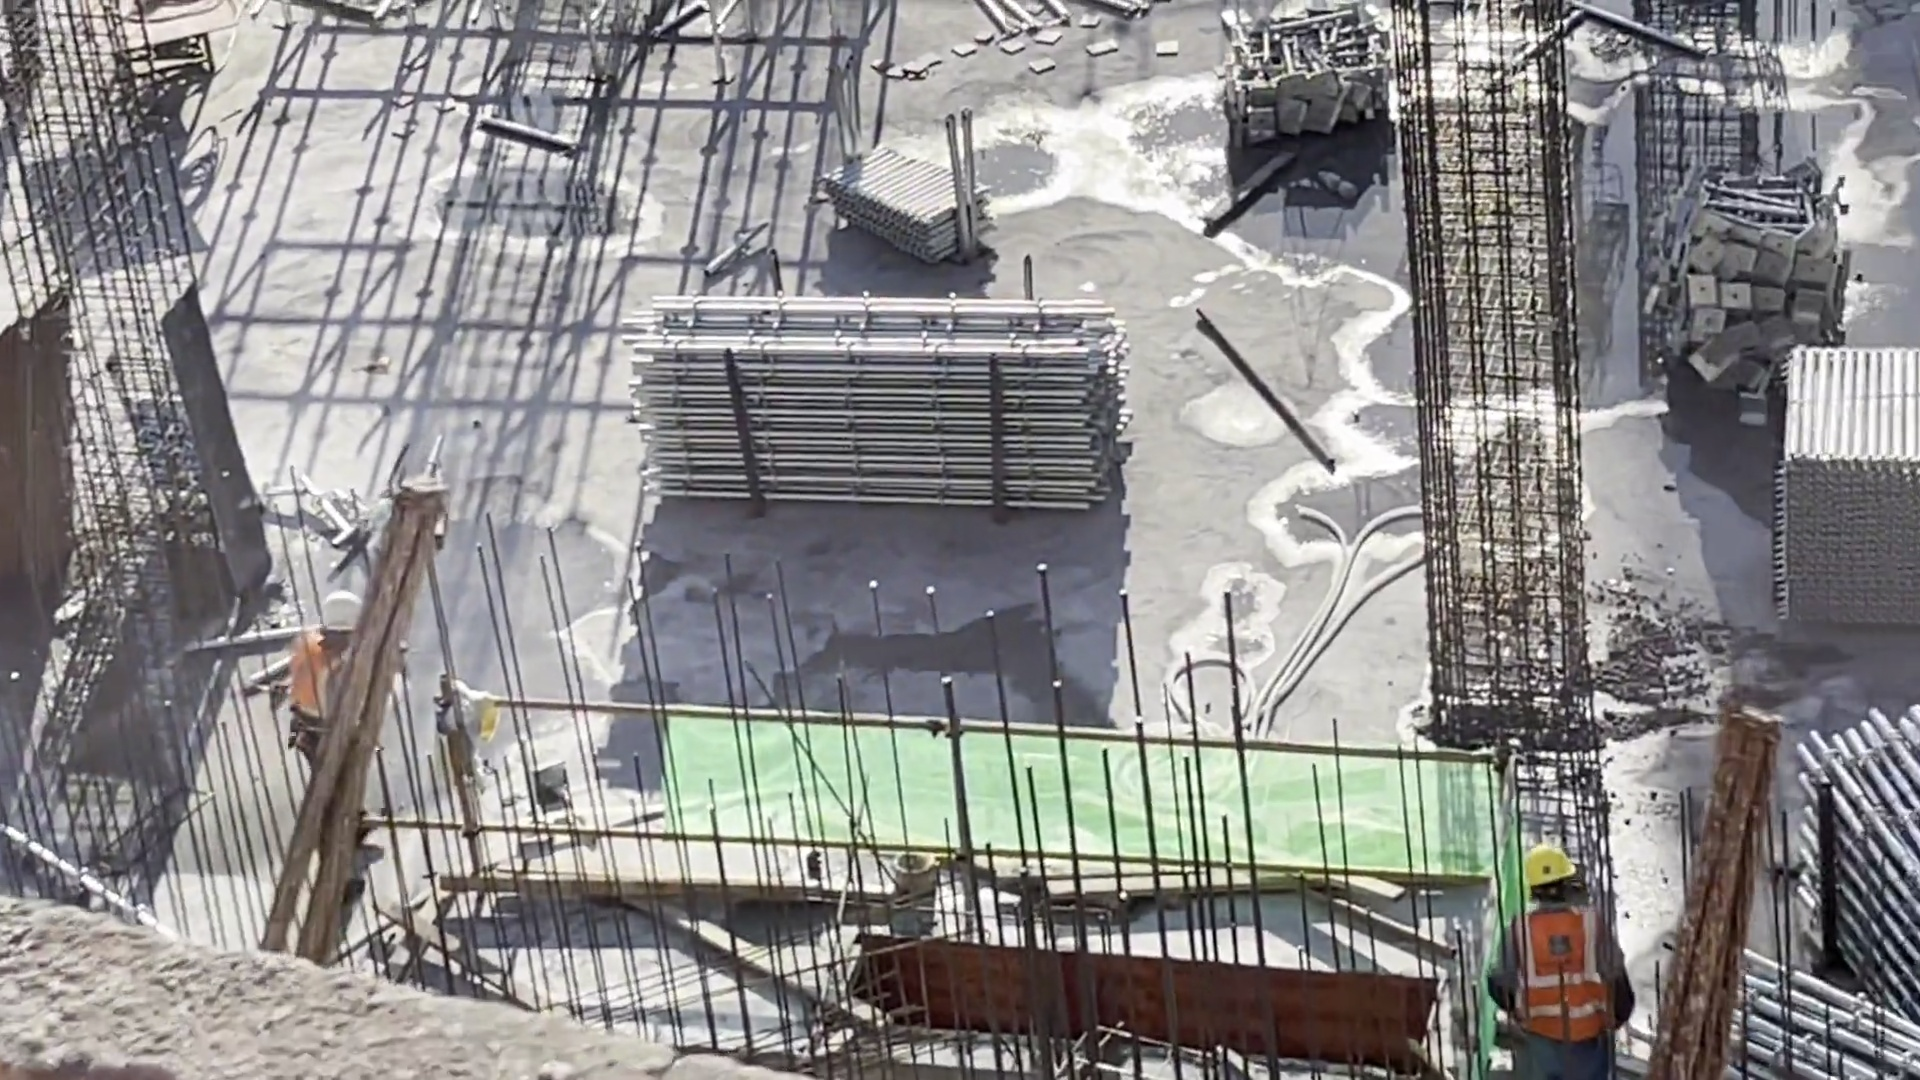helmet: (1523, 848, 1575, 894), (317, 595, 365, 642)
person: (1488, 843, 1637, 1080), (274, 586, 381, 822)
scaffold: (605, 284, 1125, 505), (1760, 381, 1920, 632), (804, 111, 995, 250), (1823, 751, 1920, 974), (1727, 969, 1917, 1080)
vest: (1505, 922, 1604, 1037), (288, 646, 351, 734)
